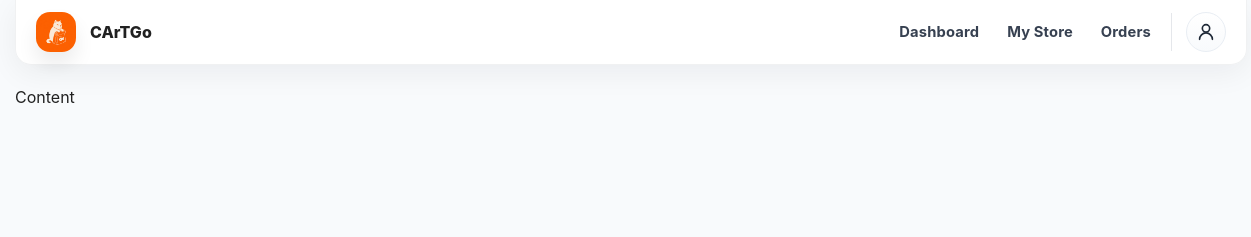
it: seller profile menu exposes profile and logout actions
Click the button named "Account menu" at (1206, 32), box [1186,12,1226,52]
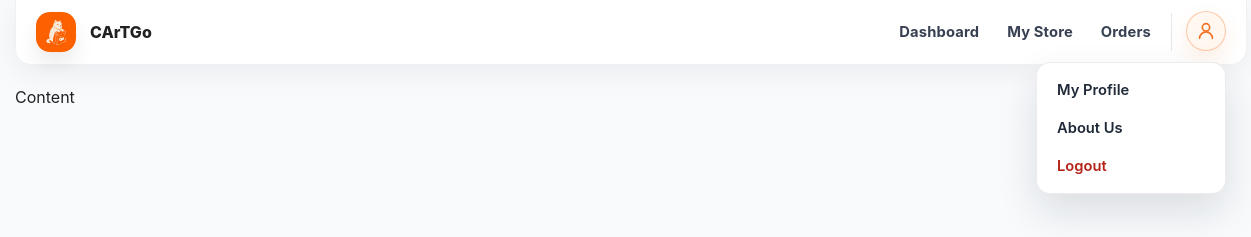
Check: the menu item "My Profile" is shown, box [1045,71,1217,109]
